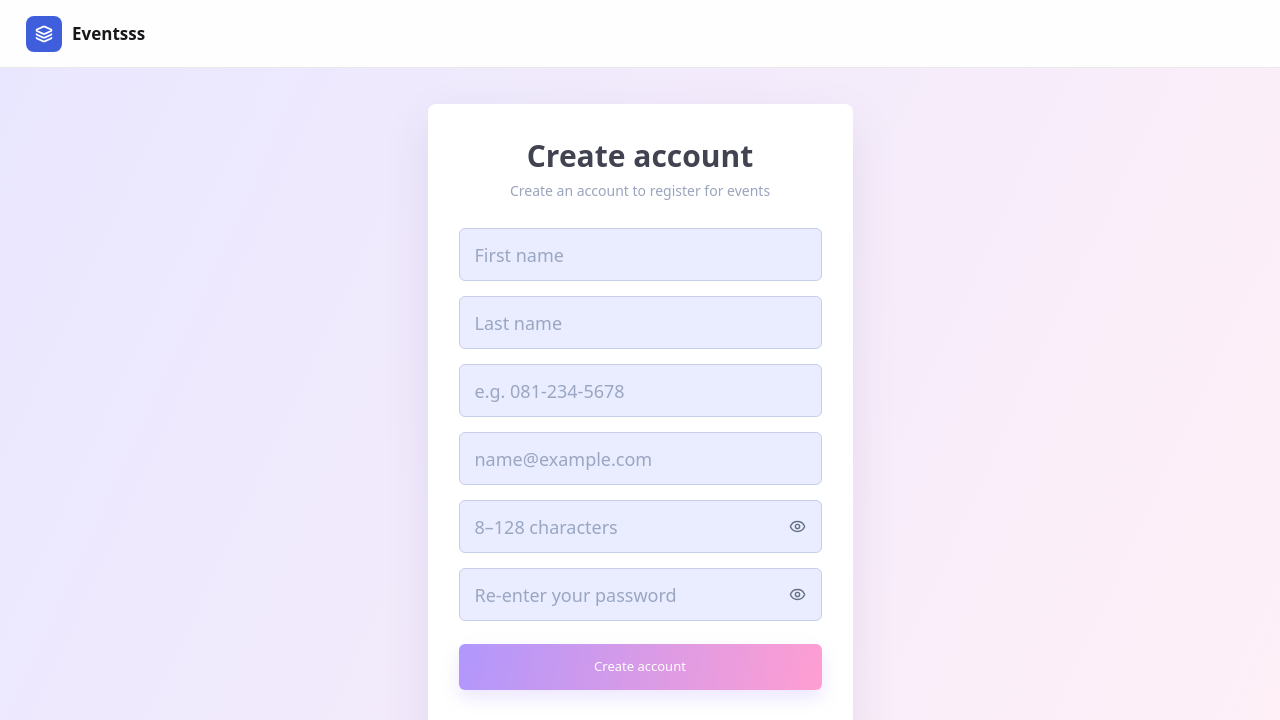
Test: Account Sign-up, Recovery and Role Selection › AUTH-002 creates an account and opens sign-in with the email filled in
The width and height of the screenshot is (1280, 720).
Type "New" into the field with id "first-name" at (641, 255), box left=459, top=228, right=822, bottom=281
Type "Member" into the field with id "last-name" at (641, 323), box left=459, top=296, right=822, bottom=349
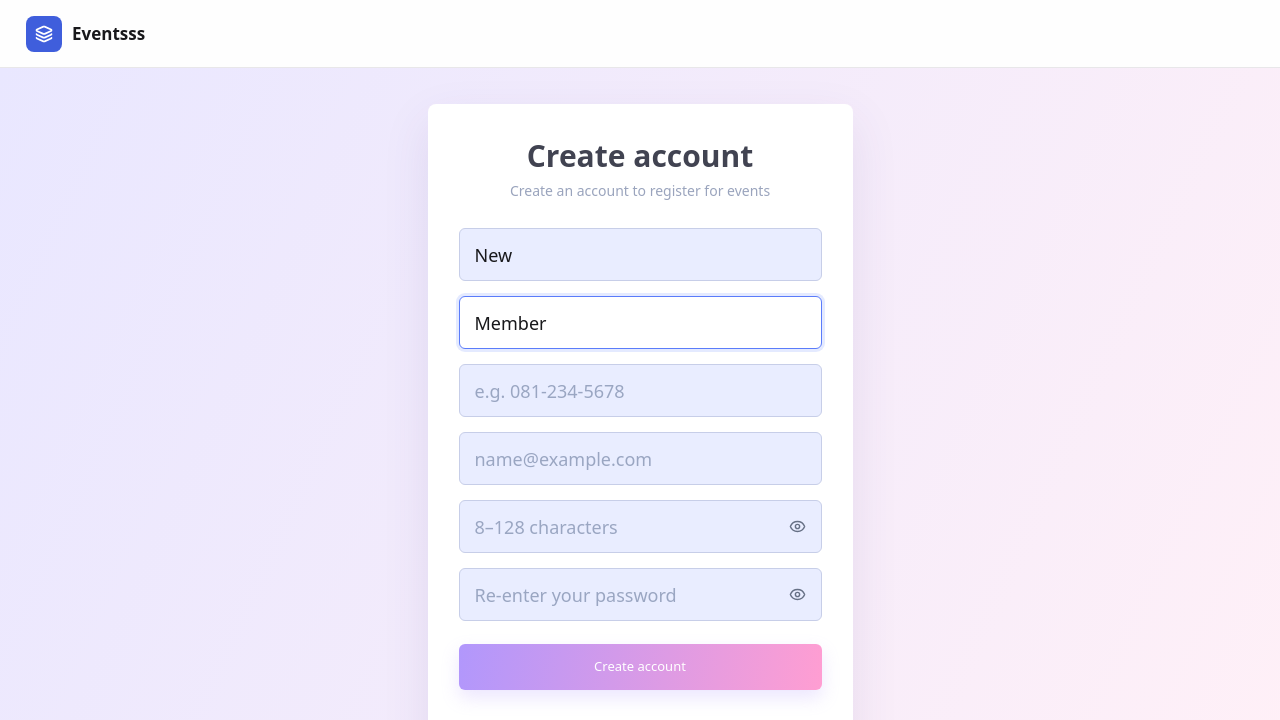
Type "0812345678" into the field with placeholder "e.g. 081-234-5678" at (641, 391), box left=459, top=364, right=822, bottom=417
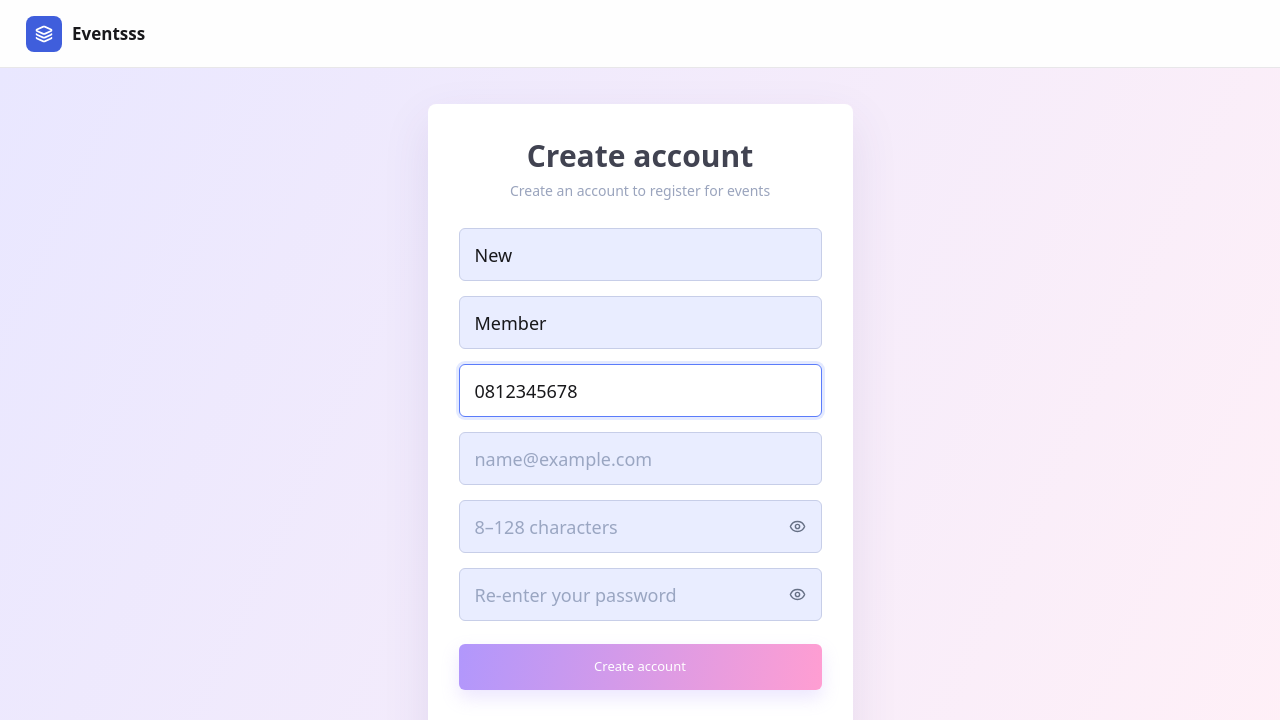
Type "new.member@example.test" into the field with id "register-email" at (641, 459), box left=459, top=432, right=822, bottom=485
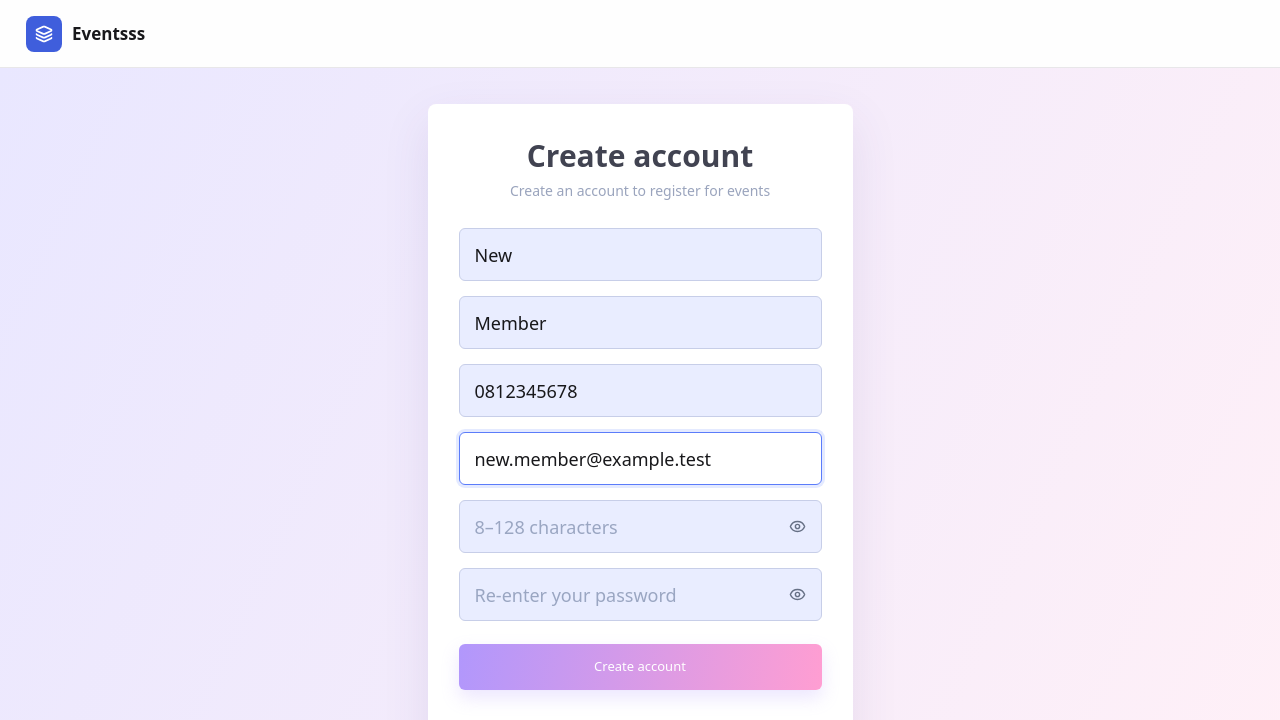
Type "Password123!" into the password field with id "register-password" at (641, 527), box left=459, top=500, right=822, bottom=553
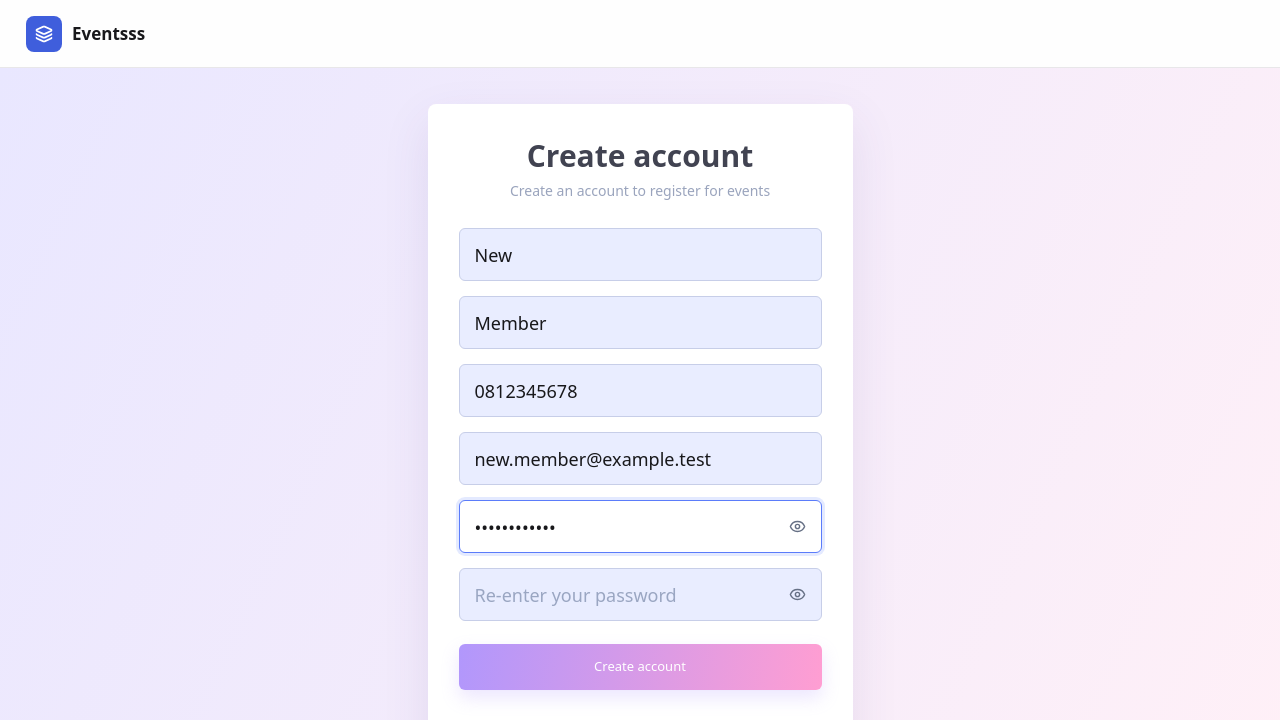
Type "Password123!" into the password field with id "confirm-password" at (641, 595), box left=459, top=568, right=822, bottom=621
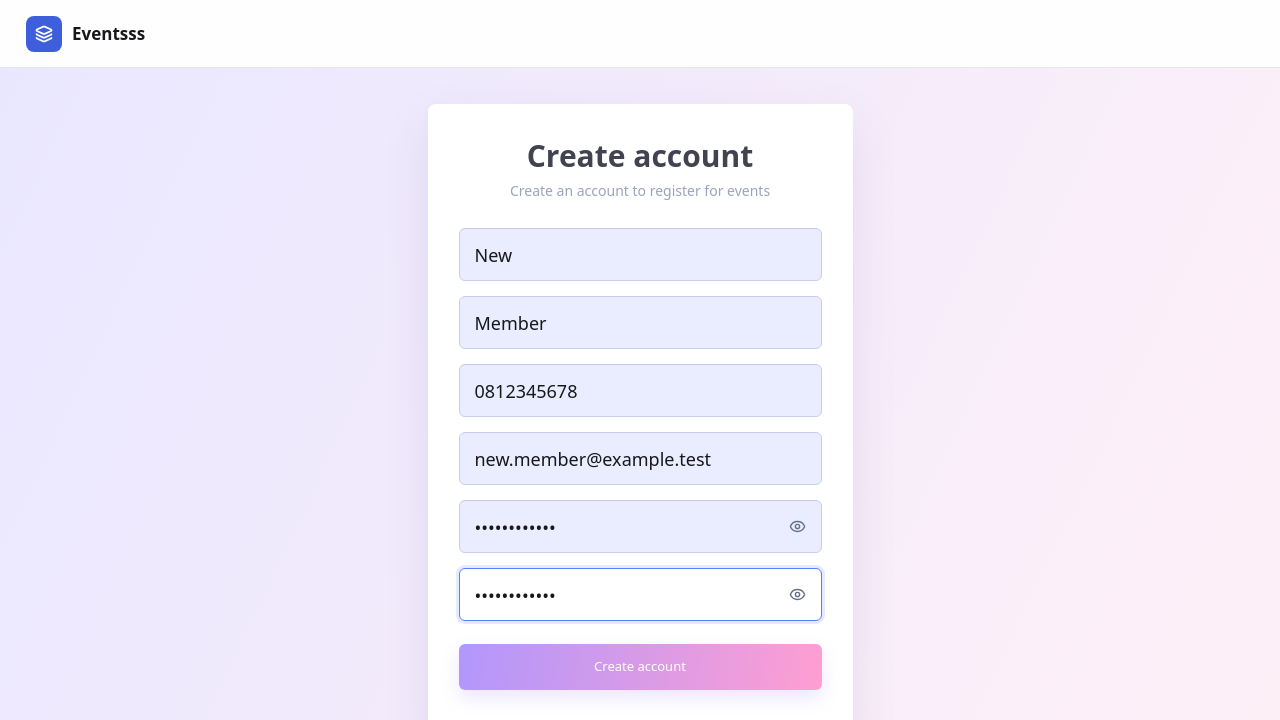
Click the button "Create account" at (641, 667), box left=459, top=644, right=822, bottom=690
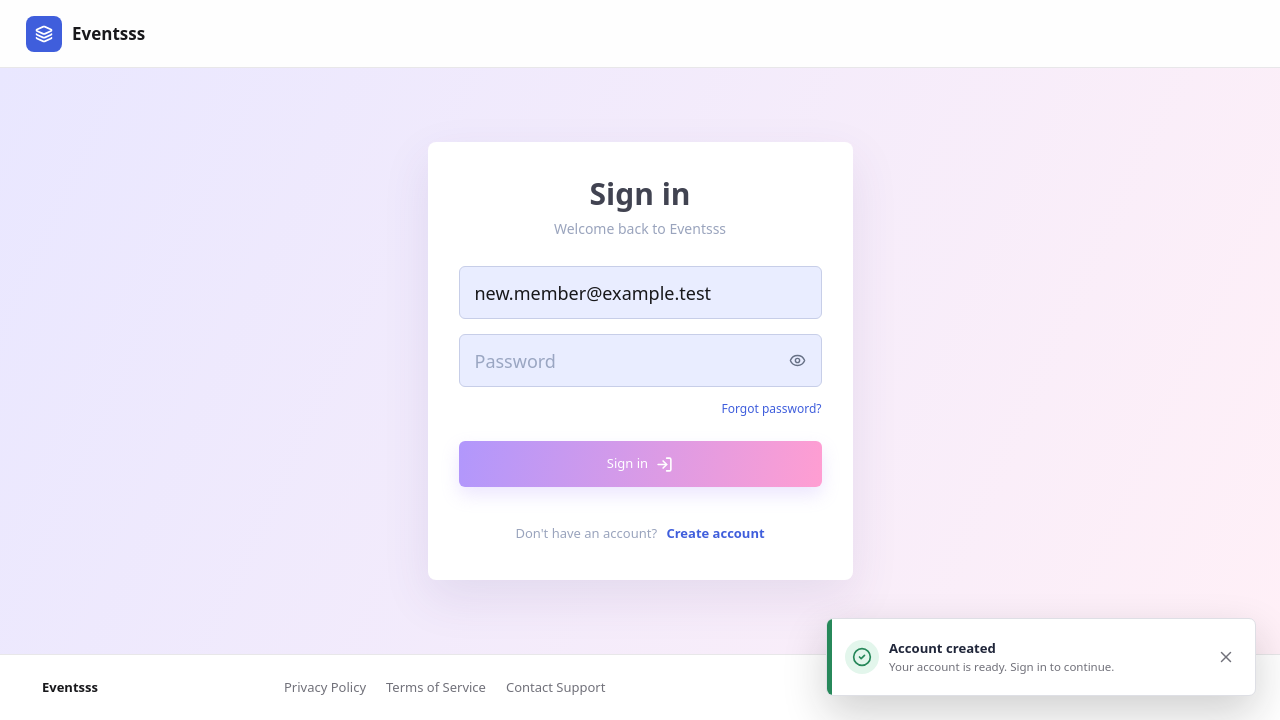
Result: the message with class "app-toast" shows "Account created" at left=826, top=618, right=1256, bottom=696
Result: the field with test id "email" holds "new.member@example.test" at left=459, top=266, right=822, bottom=319
